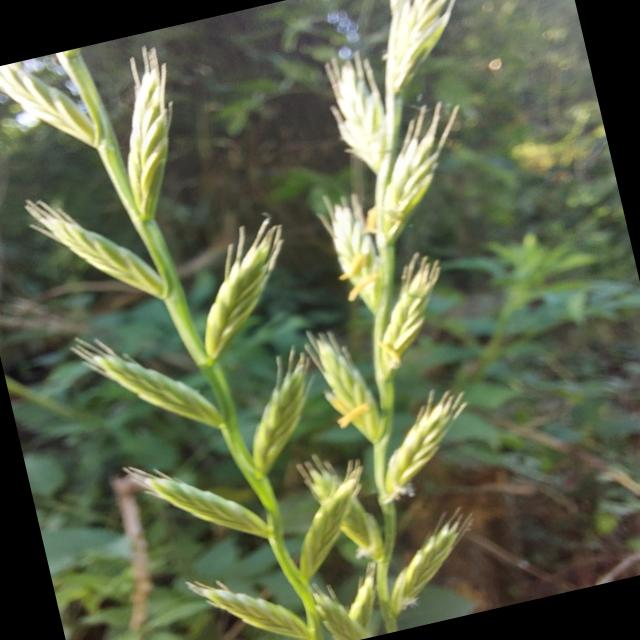Lolium: (221, 0, 614, 636), (0, 21, 371, 640)
